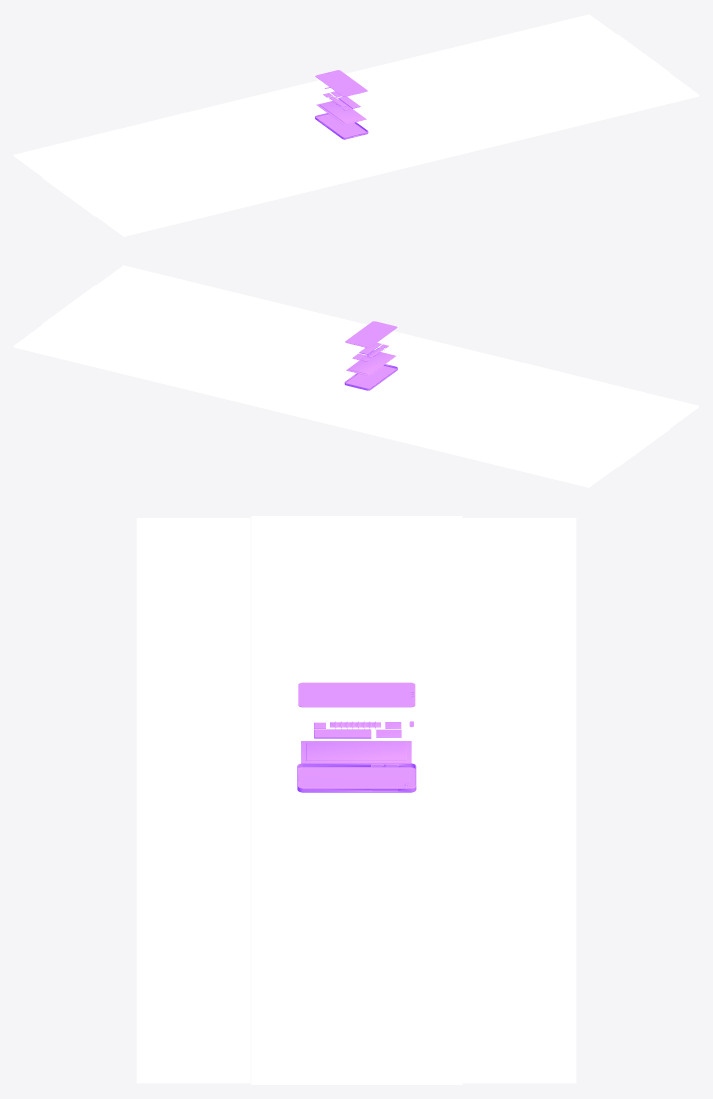
Rendered from manufacturing-draco.gltf.
3 views of the same model, one above another, from view 1: azimuth 30°, elevation 25°; view 2: azimuth 150°, elevation 25°; view 3: azimuth 270°, elevation 25° (orthographic). The views are drawn at different scales.
Visible parts, largest first — view 1: vynil, desk-a, desk-b, glass, phone, inner base; view 2: vynil, desk-b, desk-a, glass, phone, inner base; view 3: vynil, desk-a, desk-b, phone, glass, inner base.
Part boxes in pixels (x1,y1,x2,y2): vynil: (42,34,670,216); desk-a: (95,73,698,236); desk-b: (14,14,616,176); glass: (315,70,367,96); phone: (315,113,368,139); inner base: (316,99,366,124); vynil: (42,285,670,467); desk-b: (14,325,617,487); desk-a: (96,265,698,427); glass: (345,321,397,347); phone: (344,364,397,390); inner base: (346,350,395,375); vynil: (251,516,462,1084); desk-a: (136,518,250,1083); desk-b: (462,518,576,1083); phone: (297,763,416,792); glass: (298,682,415,707); inner base: (301,741,411,763).
Size of the model in its own units: 295 by 23.32 by 97.77.
